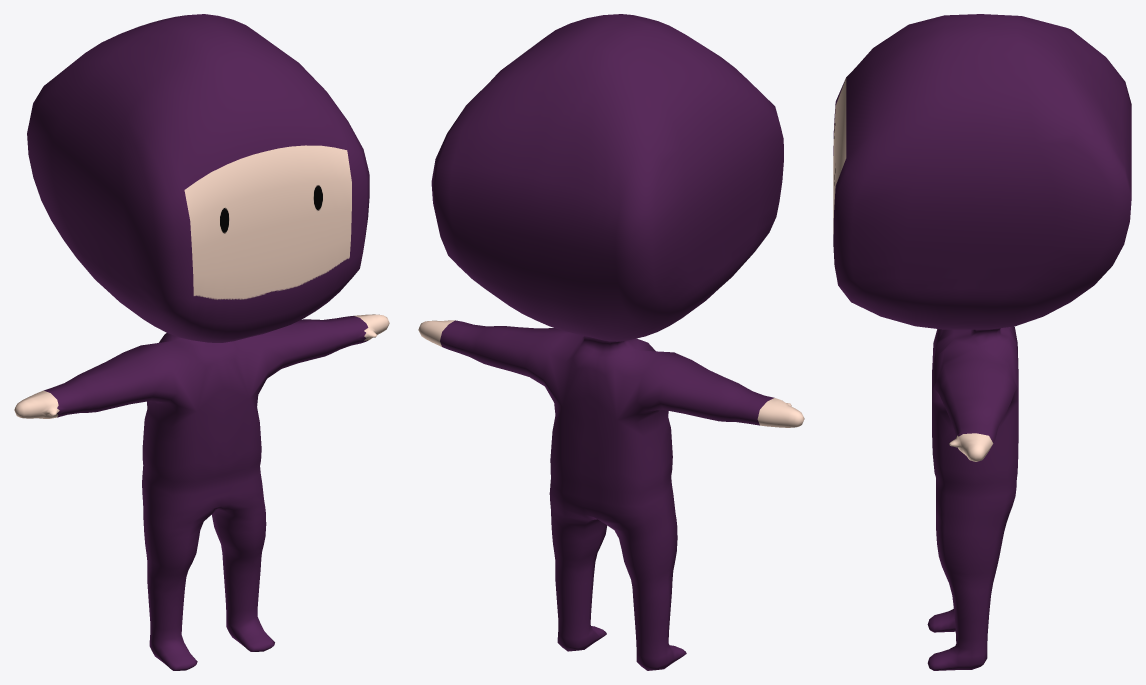
File: Ninja.FBX
The picture shows the model from 3 angles, left to right: view 1: azimuth 30°, elevation 25°; view 2: azimuth 150°, elevation 25°; view 3: azimuth 270°, elevation 25°; orthographic projection. The views are drawn at different scales.
Parts seen in each view (by area): view 1: Ninja; view 2: Ninja; view 3: Ninja.
Boxes of the visible parts, box(x1,y1,x2,y2) form: Ninja: box(14, 14, 389, 670); Ninja: box(418, 14, 804, 670); Ninja: box(833, 14, 1131, 670).
Bounding box in the file's own units: 52.29 × 82.54 × 35.69.
